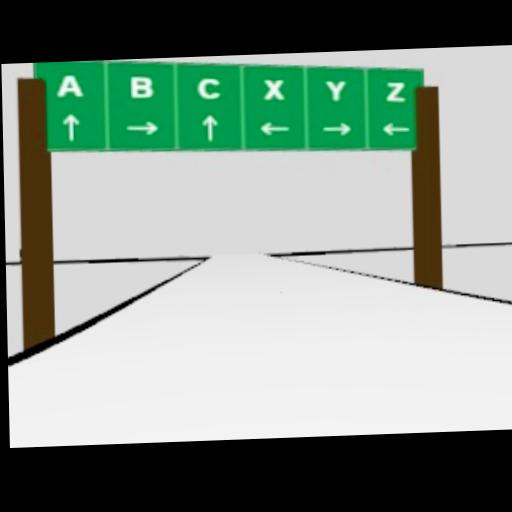A: (55, 74, 83, 98)
B: (129, 74, 153, 98)
C: (196, 75, 222, 99)
Left: (257, 120, 291, 136), (379, 121, 409, 136)
Right: (124, 120, 160, 136), (323, 122, 351, 137)
Straight: (61, 112, 81, 141), (201, 115, 219, 142)
X: (263, 78, 285, 100)
Y: (324, 78, 347, 102)
Z: (386, 81, 405, 102)
